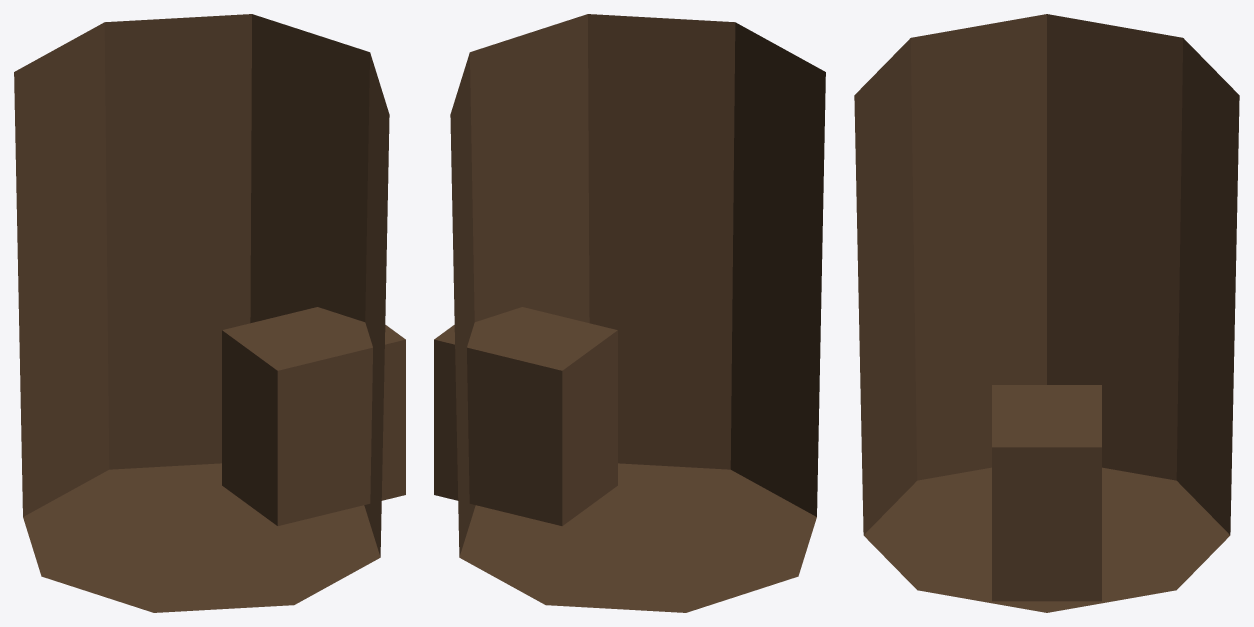
File: resource_hardwood_stump.glb
3 renders of one model, left to right at view 1: azimuth 30°, elevation 25°; view 2: azimuth 150°, elevation 25°; view 3: azimuth 270°, elevation 25°, orthographic.
Visible parts, largest first — view 1: resource_hardwood_stump; view 2: resource_hardwood_stump; view 3: resource_hardwood_stump.
Part boxes in pixels (x1,y1,x2,y2): resource_hardwood_stump: (14,14,405,612); resource_hardwood_stump: (434,14,825,612); resource_hardwood_stump: (854,14,1239,612).
Bounding box in the file's own units: 0.8122 × 1 × 0.7933.
